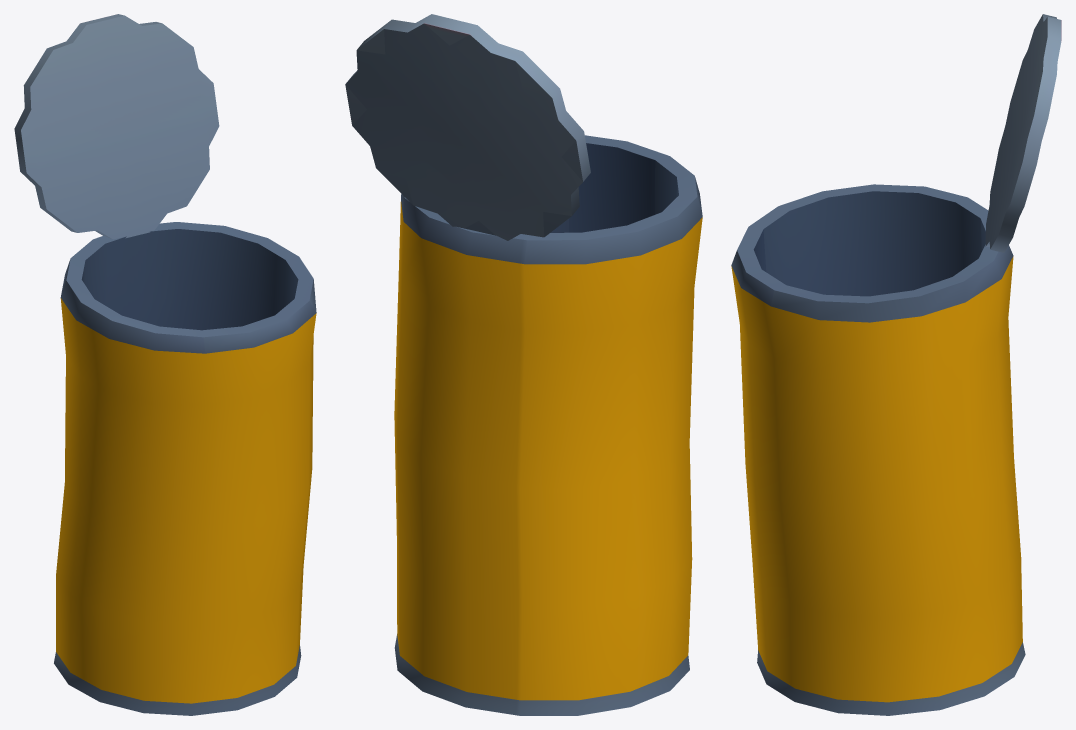
Rendered from can2.fbx.
3 views of the same model, side by side, from view 1: azimuth 30°, elevation 25°; view 2: azimuth 150°, elevation 25°; view 3: azimuth 270°, elevation 25° (orthographic). The views are drawn at different scales.
Parts seen in each view (by area): view 1: can2; view 2: can2; view 3: can2.
Boxes of the visible parts, <box> form: can2: <box>14,14,316,715</box>; can2: <box>345,14,702,715</box>; can2: <box>731,14,1061,715</box>.
Size of the model in its own units: 0.00111 by 0.00282 by 0.00132.
Materials: 1 (1 with a texture image).
